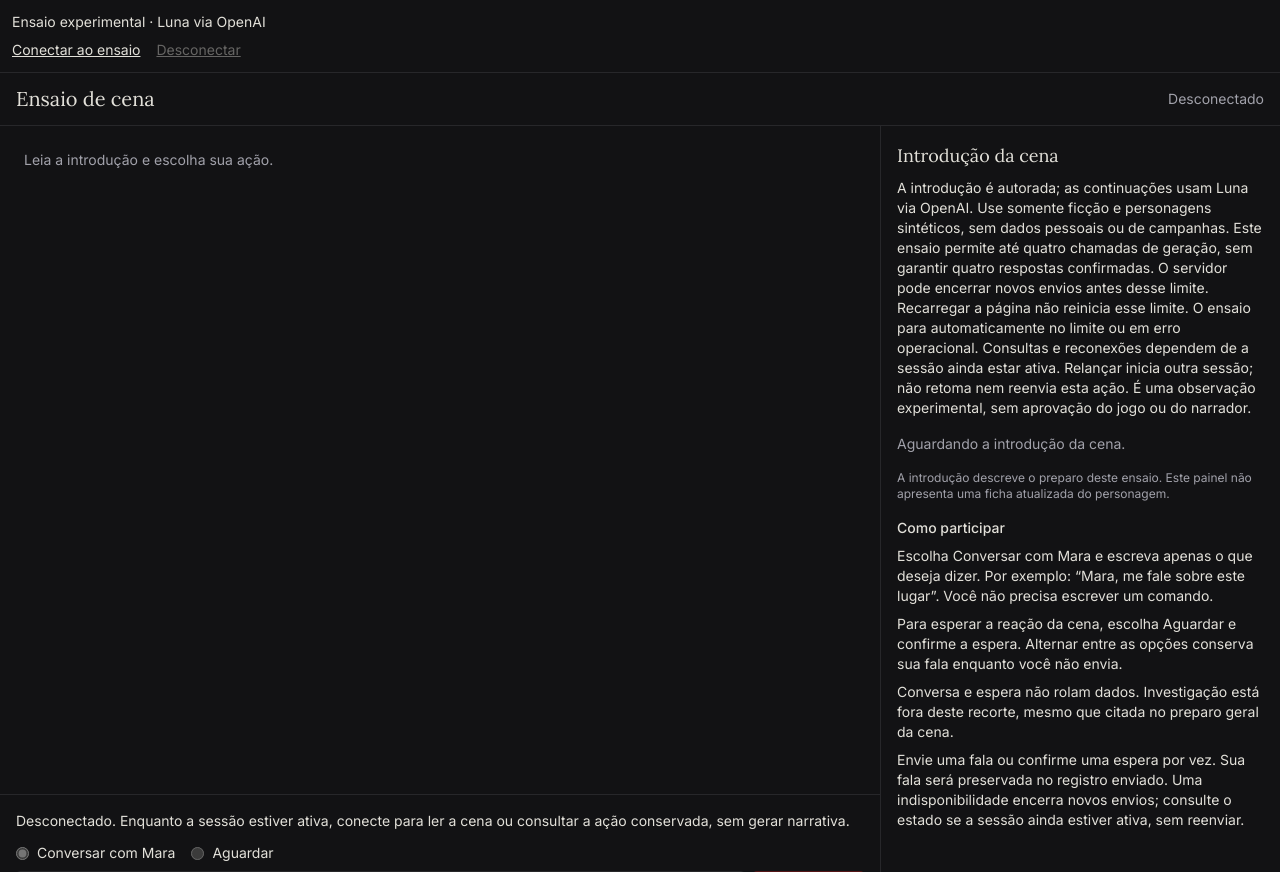
it: interactive presentation gate › Luna reconnect queries pending action without a new submission or cooldown
Click the button "Conectar ao ensaio". click: (76, 50)
box: [12, 40, 140, 60]
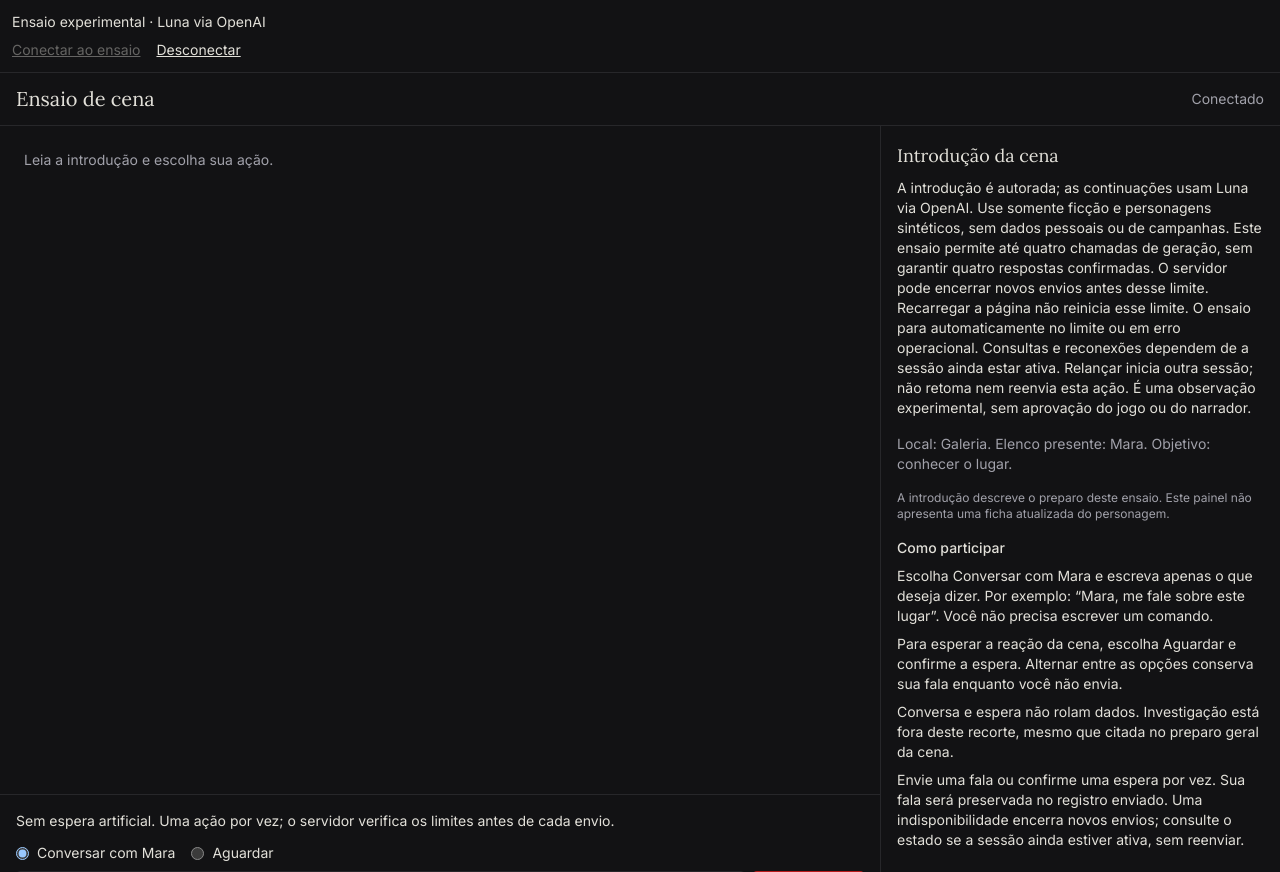
Click the radio button labelled "Aguardar". click: (198, 853)
box: [191, 846, 204, 860]
(page scrolled)
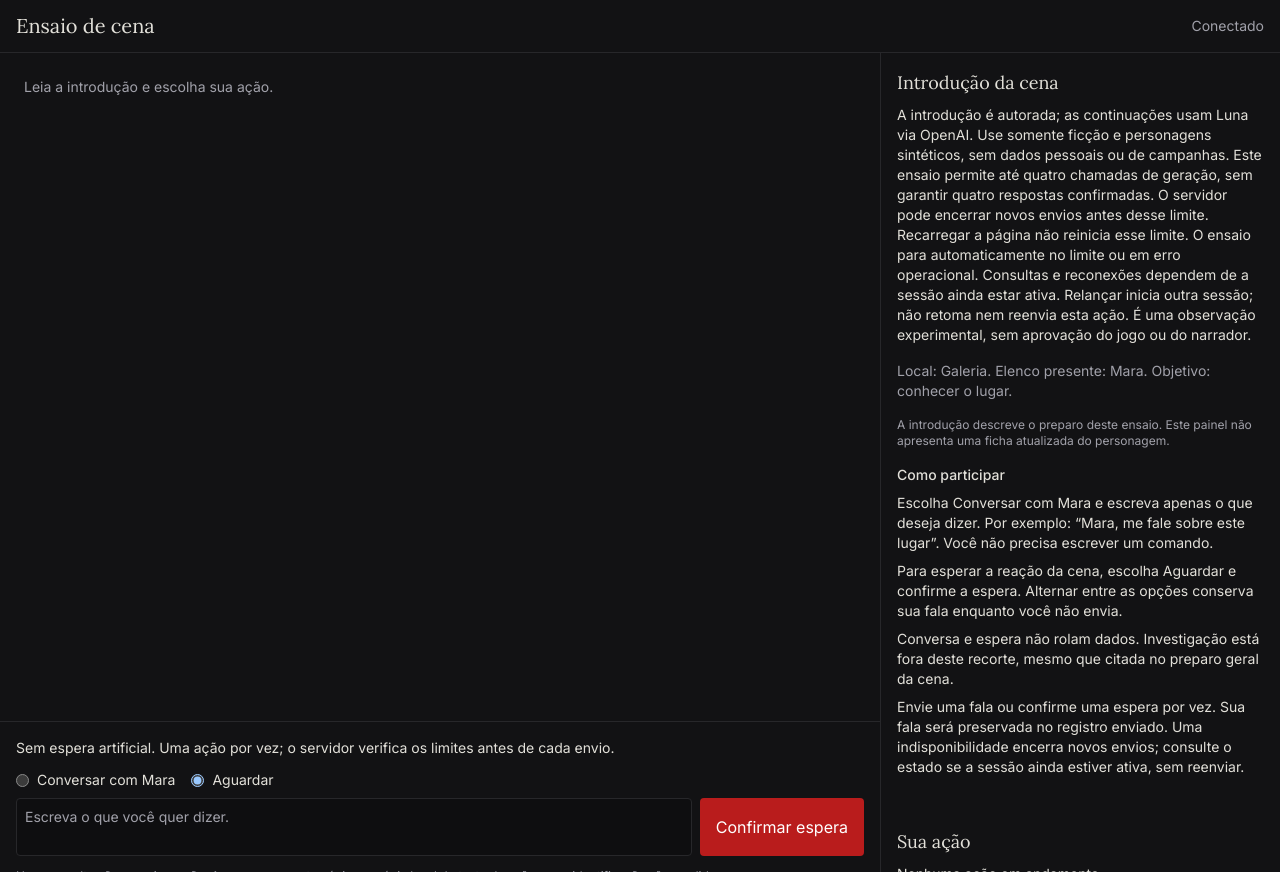
Click the button "Confirmar espera". click: (782, 827)
box: [700, 798, 864, 856]
(page scrolled)
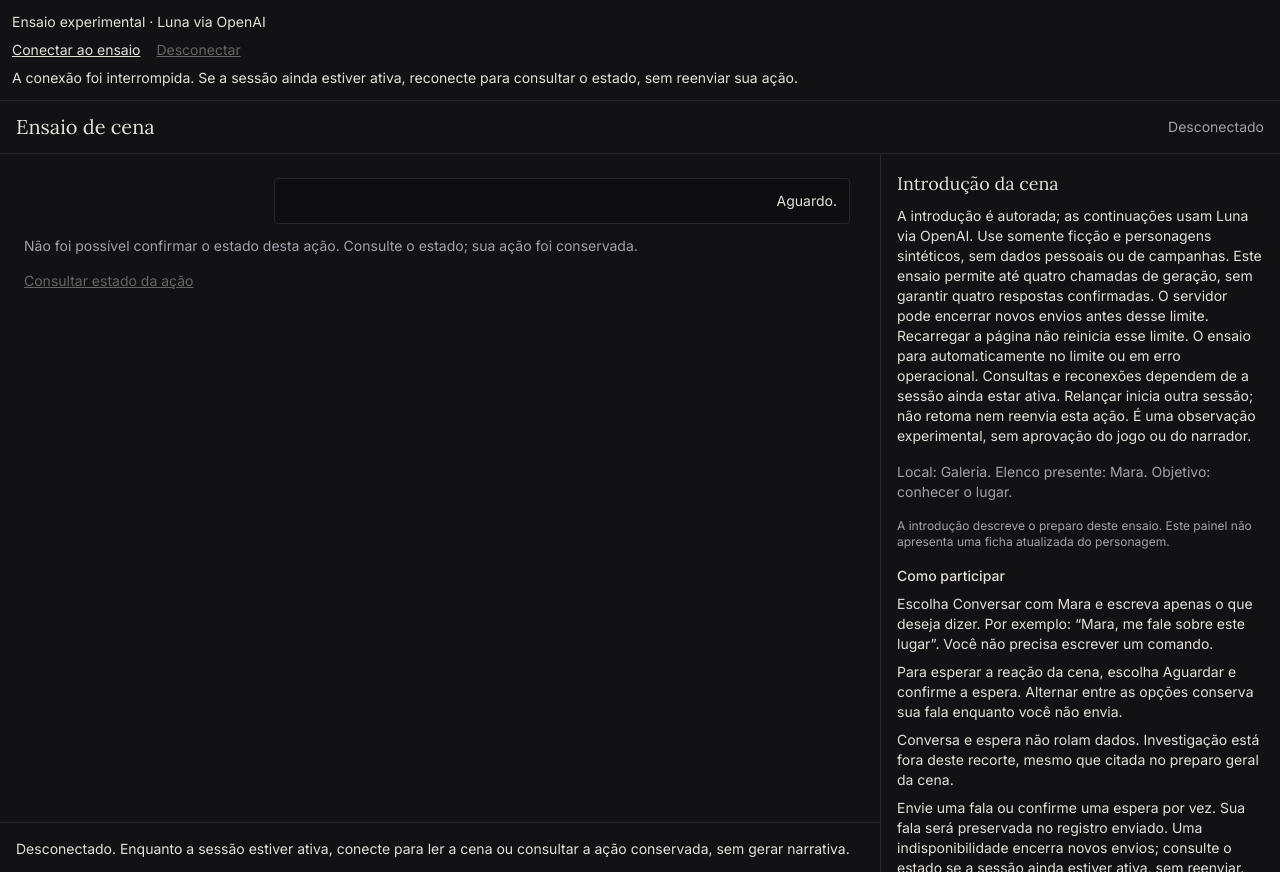
Click the button "Conectar ao ensaio". click: (76, 50)
box: [12, 40, 140, 60]
(page scrolled)
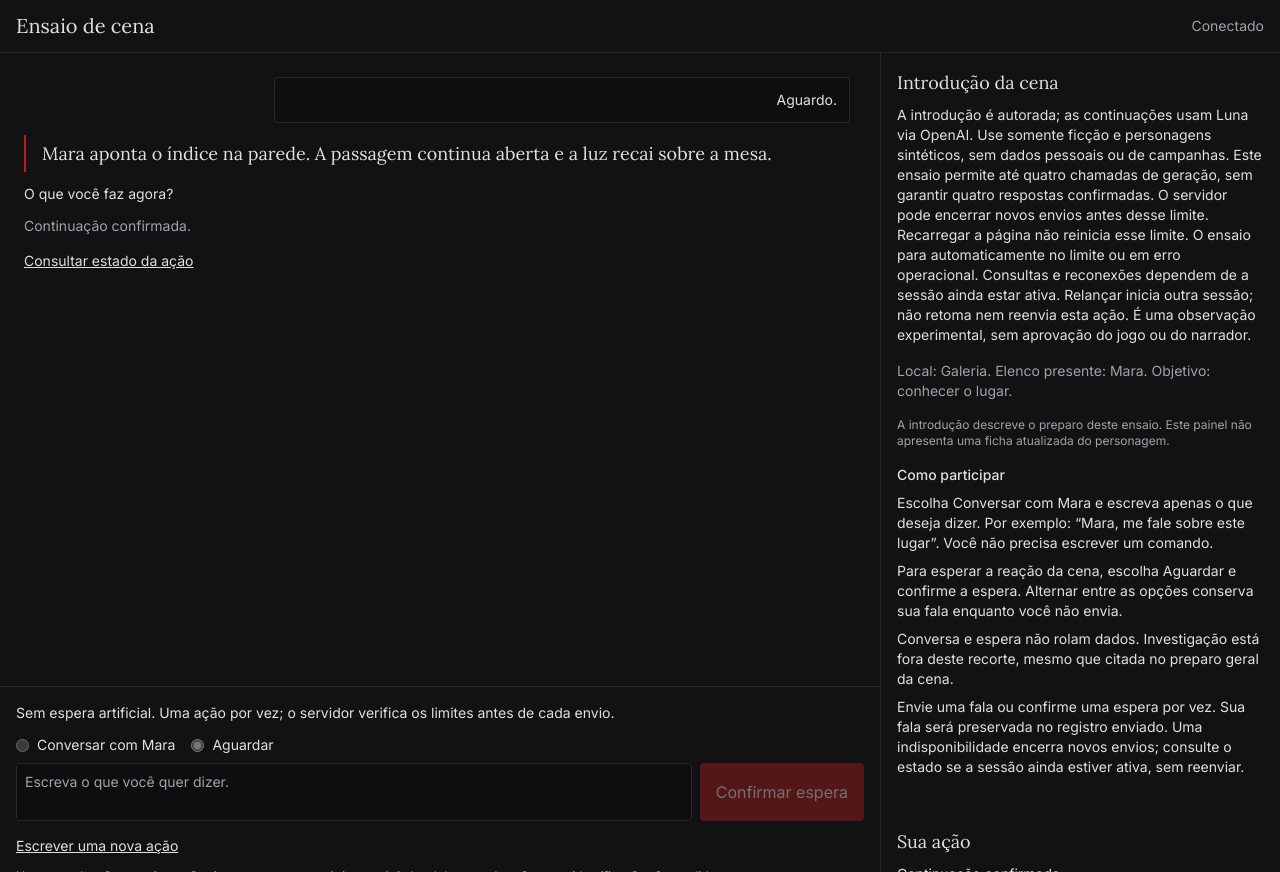
Check: the text box named "Sua fala para Mara" is disabled, box [16, 763, 692, 821]
Check: the button "Escrever uma nova ação" is enabled, box [16, 836, 178, 856]
